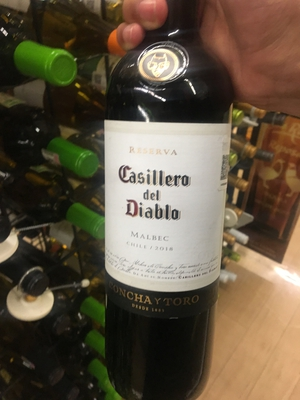casillero del diablo malbec: (96, 4, 235, 400)
